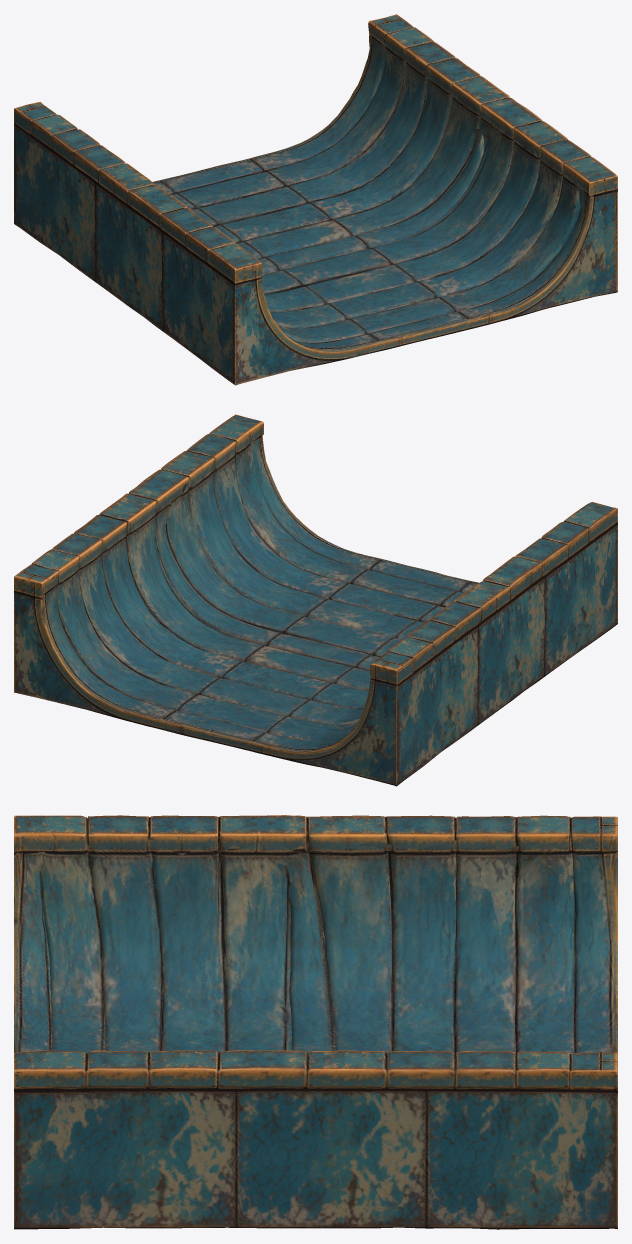
Rendered from aqueduct-v2.glb.
3 renders of one model, top to bottom at view 1: azimuth 30°, elevation 25°; view 2: azimuth 150°, elevation 25°; view 3: azimuth 270°, elevation 25°, orthographic. The views are drawn at different scales.
Size of the model in its own units: 1 by 0.2974 by 1.
Materials: 1 (1 with a texture image).
